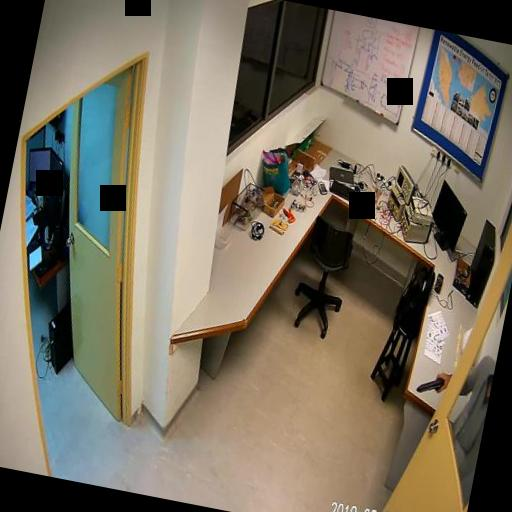Handgun: (414, 365, 446, 396)
